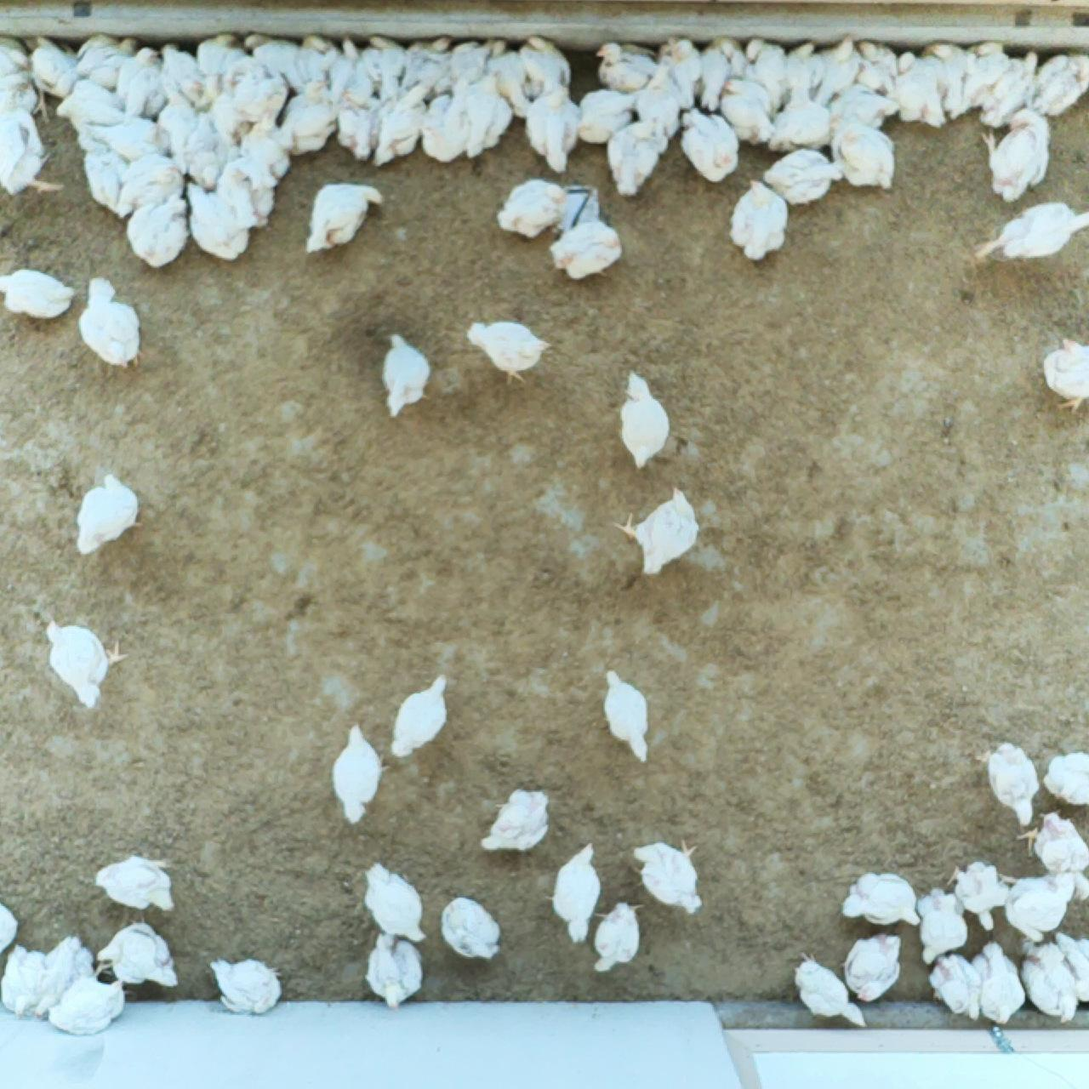chicken: (610, 485, 700, 576), (45, 621, 126, 709), (977, 202, 1089, 259), (1021, 810, 1089, 902), (77, 277, 142, 368), (330, 726, 389, 825), (96, 921, 179, 991), (984, 111, 1050, 199), (465, 319, 550, 387), (306, 183, 385, 254), (184, 182, 250, 265), (1, 110, 64, 194), (619, 368, 670, 470), (794, 957, 866, 1029), (1018, 938, 1080, 1021), (78, 475, 142, 555), (632, 841, 700, 915), (525, 84, 579, 175), (840, 870, 925, 927), (47, 977, 126, 1038), (730, 179, 790, 259), (391, 676, 448, 759), (26, 37, 79, 126), (479, 787, 549, 853), (762, 148, 843, 205), (553, 844, 600, 942), (128, 194, 189, 269), (225, 56, 286, 131), (364, 864, 424, 940), (454, 82, 514, 158), (607, 121, 667, 197), (41, 936, 95, 1019), (1004, 872, 1074, 936), (987, 742, 1040, 825), (602, 670, 649, 763), (207, 957, 282, 1015), (95, 857, 174, 912), (680, 110, 738, 184), (1, 265, 75, 322), (498, 179, 567, 240), (373, 93, 429, 168), (974, 942, 1025, 1023), (366, 934, 423, 1006), (276, 92, 338, 158), (892, 52, 945, 129), (381, 334, 430, 417), (74, 121, 175, 161), (1026, 51, 1089, 115), (842, 933, 902, 1000), (550, 224, 624, 278), (951, 862, 1008, 932), (984, 54, 1037, 129), (831, 127, 896, 188), (123, 155, 186, 216), (244, 33, 307, 94), (440, 895, 500, 959), (735, 37, 786, 111), (771, 89, 832, 150), (520, 35, 573, 104), (927, 42, 974, 119), (331, 93, 383, 162), (721, 80, 776, 144), (82, 149, 133, 218), (361, 31, 408, 105), (403, 35, 454, 103), (656, 37, 704, 109), (420, 96, 472, 162), (1042, 338, 1089, 411), (917, 889, 966, 959), (117, 46, 165, 117), (225, 162, 273, 233), (591, 904, 641, 972), (1, 949, 48, 1021), (240, 120, 292, 185), (183, 116, 228, 191), (442, 41, 508, 92), (323, 32, 369, 105), (484, 52, 533, 120), (596, 40, 657, 94), (73, 33, 135, 86), (197, 32, 246, 99), (58, 83, 129, 128), (577, 88, 633, 145), (966, 42, 1012, 111), (930, 955, 981, 1017), (157, 96, 206, 160), (158, 43, 205, 109), (831, 85, 898, 131), (818, 35, 862, 104), (1, 71, 51, 127), (777, 43, 823, 103), (1052, 930, 1089, 1004), (297, 33, 337, 101), (199, 77, 242, 140), (687, 45, 727, 111), (630, 86, 681, 137), (859, 39, 899, 103), (1044, 753, 1089, 806), (710, 36, 747, 94), (139, 67, 178, 120), (1, 37, 32, 88), (1, 899, 19, 953)
